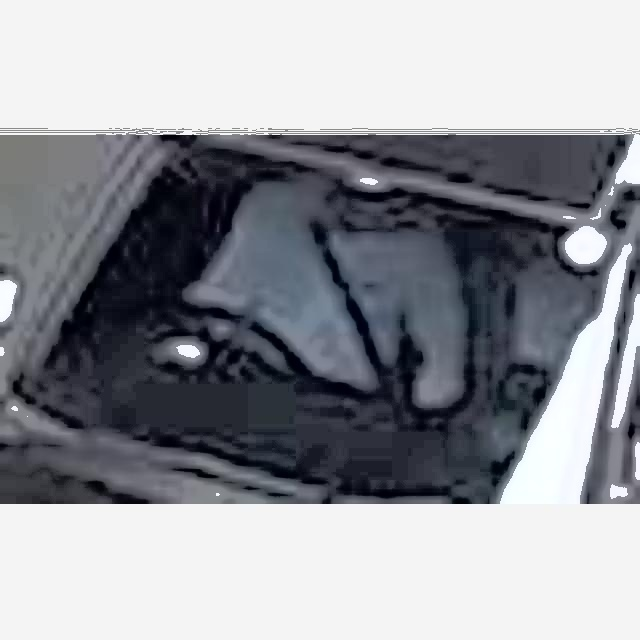pakai: (191, 178, 437, 418)
